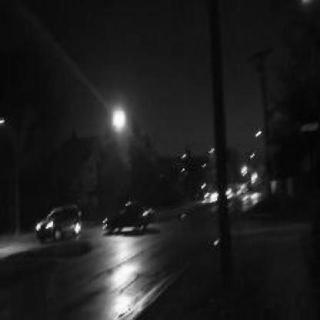other: (98, 96, 136, 137)
